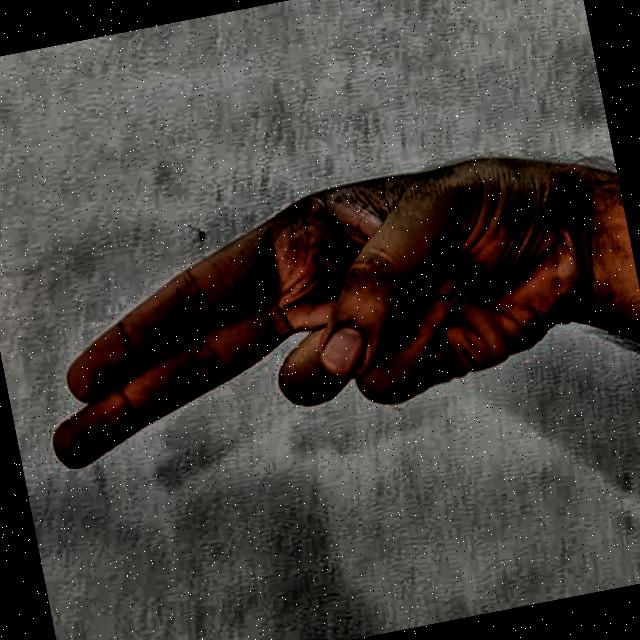Ha: (12, 106, 630, 612)
